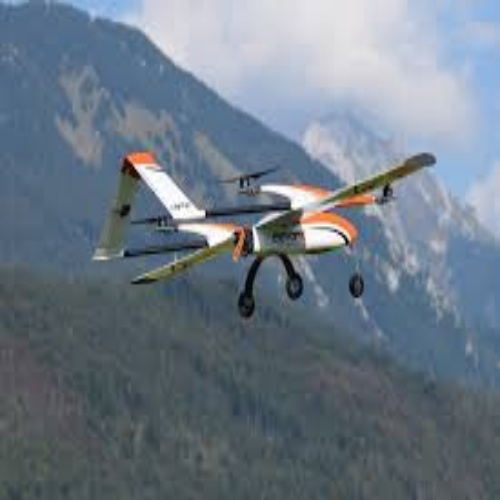uav516: (92, 149, 438, 319)
